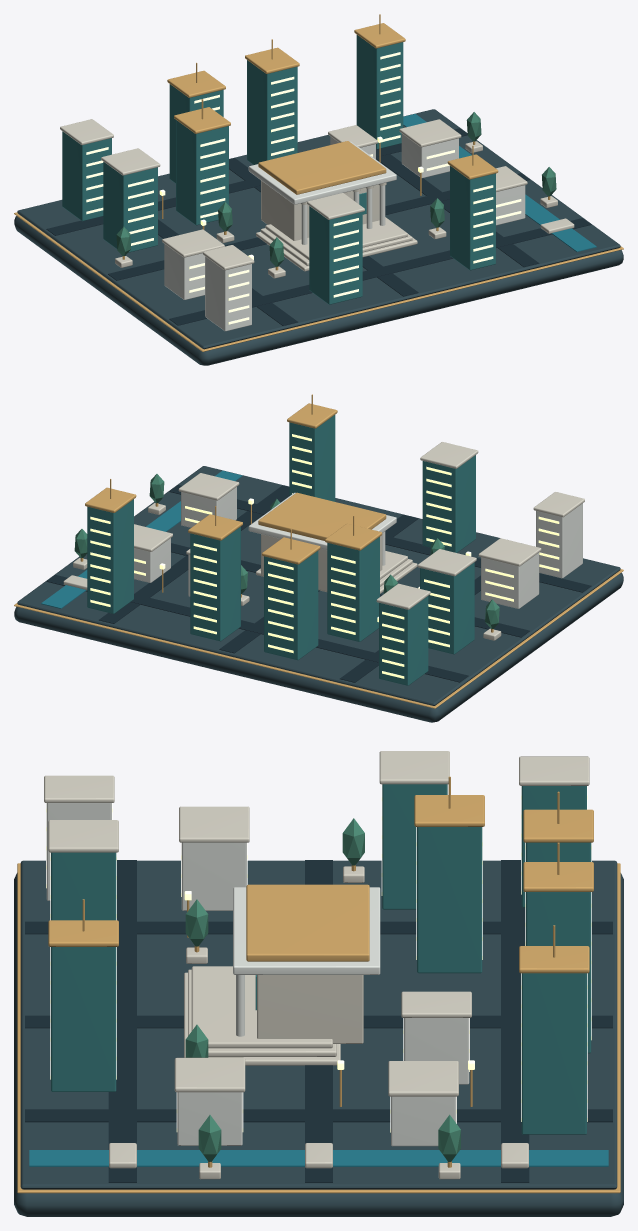
File: policy_city.glb
The picture shows the model from 3 angles, top to bottom: view 1: azimuth 30°, elevation 25°; view 2: azimuth 150°, elevation 25°; view 3: azimuth 270°, elevation 25°; orthographic projection. The views are drawn at different scales.
Visible parts, largest first — view 1: Ground, Foundation, City building.004, City building.012, City building.006, City building.009, Roof, City building.008, City building.002, City building.003, City building, Boulevard (+29 smaller); view 2: Ground, Foundation, City building.005, City building.006, City building.004, City building.012, City building.009, City building.002, City building.003, Roof, City building.008, City building (+25 smaller); view 3: Ground, Foundation, City building.012, City building.004, Roof, City building.008, Canal, Policy House, Boulevard, Boulevard.002, Brass reveal, Civic stair.002 (+37 smaller).
Part boxes in pixels (x1=…): Ground: x1=17, y1=109, x2=620, y2=349; Foundation: x1=14, y1=216, x2=623, y2=365; City building.004: x1=176, y1=120, x2=228, y2=225; City building.012: x1=356, y1=35, x2=403, y2=149; City building.006: x1=247, y1=60, x2=297, y2=164; City building.009: x1=309, y1=206, x2=362, y2=304; Roof: x1=258, y1=141, x2=386, y2=194; City building.008: x1=450, y1=166, x2=495, y2=270; City building.002: x1=103, y1=162, x2=157, y2=252; City building.003: x1=62, y1=131, x2=111, y2=221; City building: x1=205, y1=256, x2=251, y2=331; Boulevard: x1=169, y1=218, x2=591, y2=325; Ground: x1=17, y1=466, x2=620, y2=705; Foundation: x1=14, y1=573, x2=623, y2=722; City building.005: x1=264, y1=551, x2=318, y2=660; City building.006: x1=190, y1=526, x2=240, y2=641; City building.004: x1=327, y1=537, x2=379, y2=641; City building.012: x1=87, y1=499, x2=133, y2=613; City building.009: x1=422, y1=455, x2=475, y2=552; City building.002: x1=420, y1=562, x2=474, y2=654; City building.003: x1=379, y1=596, x2=428, y2=685; Roof: x1=258, y1=492, x2=386, y2=540; City building.008: x1=289, y1=415, x2=335, y2=501; City building: x1=536, y1=503, x2=582, y2=578; Ground: x1=20, y1=860, x2=617, y2=1189; Foundation: x1=14, y1=873, x2=623, y2=1216; City building.012: x1=521, y1=973, x2=586, y2=1134; City building.004: x1=417, y1=827, x2=482, y2=973; Roof: x1=246, y1=884, x2=369, y2=961; City building.008: x1=51, y1=947, x2=116, y2=1091; Canal: x1=29, y1=1150, x2=608, y2=1166; Policy House: x1=257, y1=975, x2=363, y2=1043; Boulevard: x1=108, y1=860, x2=136, y2=1182; Boulevard.002: x1=501, y1=860, x2=529, y2=1182; Brass reveal: x1=17, y1=863, x2=620, y2=1193; Civic stair.002: x1=191, y1=966, x2=332, y2=1048.
Bounding box in the file's own units: 18 × 5.96 × 14.
